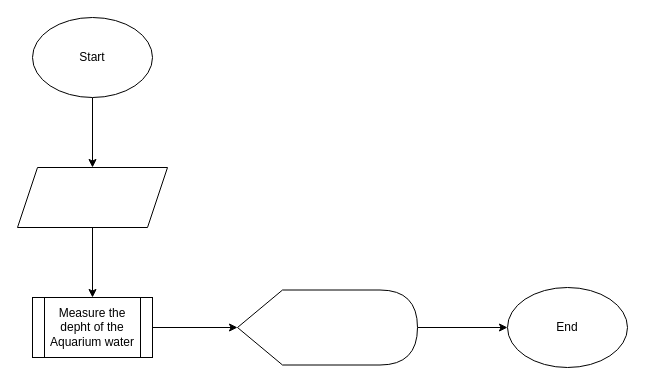
Image size: 645x385. Some labels were removed from this diagram. The centre of each missing label's shape, as x and y in pixels:
"Display the depht of the aquarium water" belongs at [327,327].
"Ultrasonic Sensor" belongs at [92,197].
